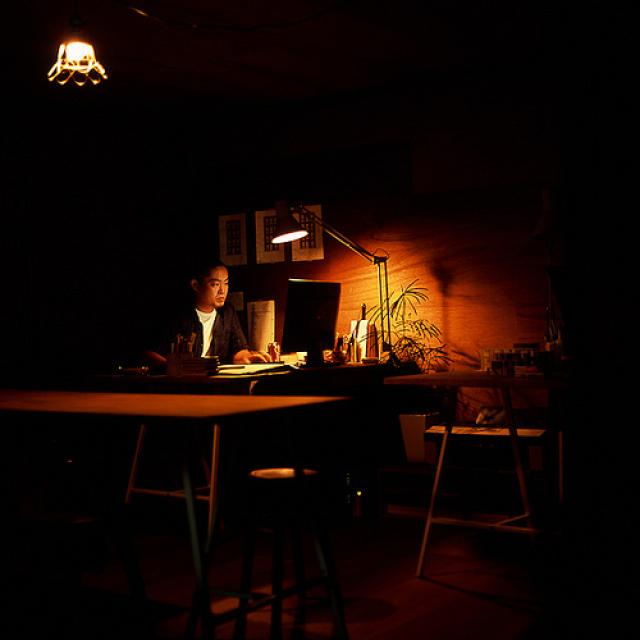People: (149, 247, 257, 386)
Table: (4, 366, 380, 601), (378, 345, 639, 586)
chair: (242, 438, 359, 640)
